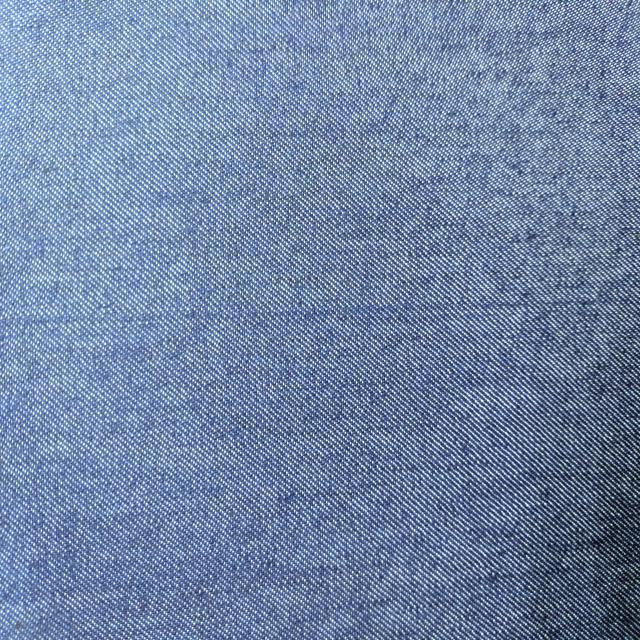Line: (3, 296, 602, 327)
